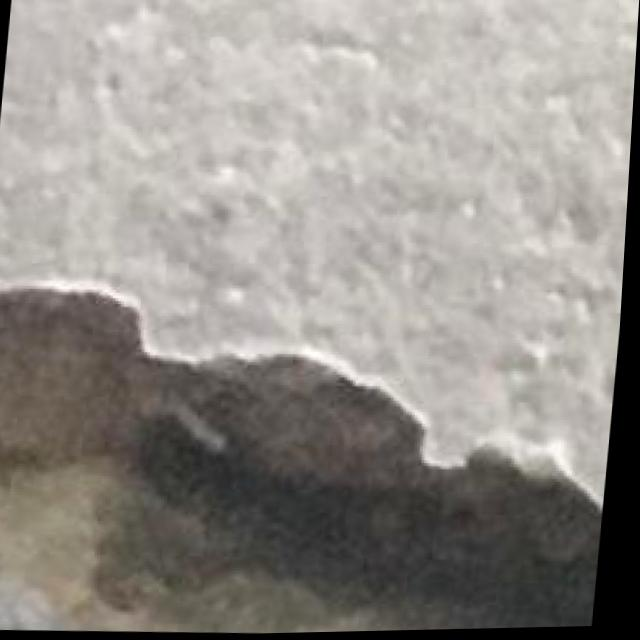Crack: (0, 257, 628, 640)
